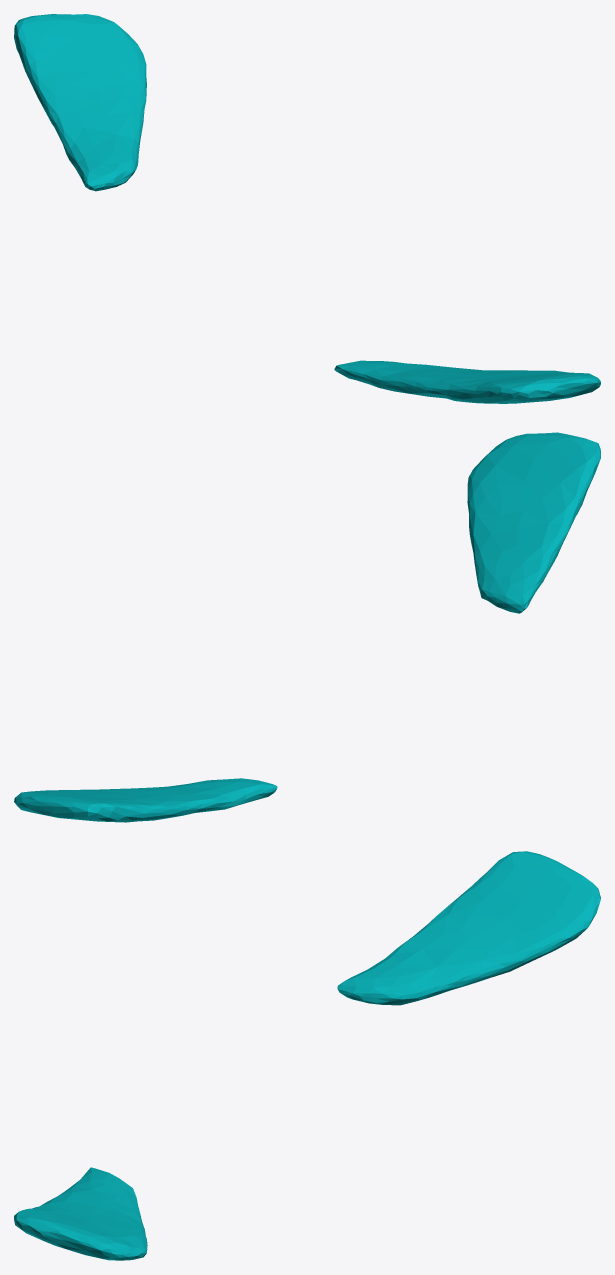
The picture shows the model from 3 angles, top to bottom: view 1: azimuth 30°, elevation 25°; view 2: azimuth 150°, elevation 25°; view 3: azimuth 330°, elevation 25°; orthographic projection.
Parts seen in each view (by area): view 1: 312782550.obj; view 2: 312782550.obj; view 3: 312782550.obj.
Part boxes in pixels (x1=…): 312782550.obj: x1=14, y1=14, x2=600, y2=403; 312782550.obj: x1=14, y1=432, x2=600, y2=822; 312782550.obj: x1=14, y1=851, x2=600, y2=1260.
Size of the model in its own units: 959 by 435 by 5520.
